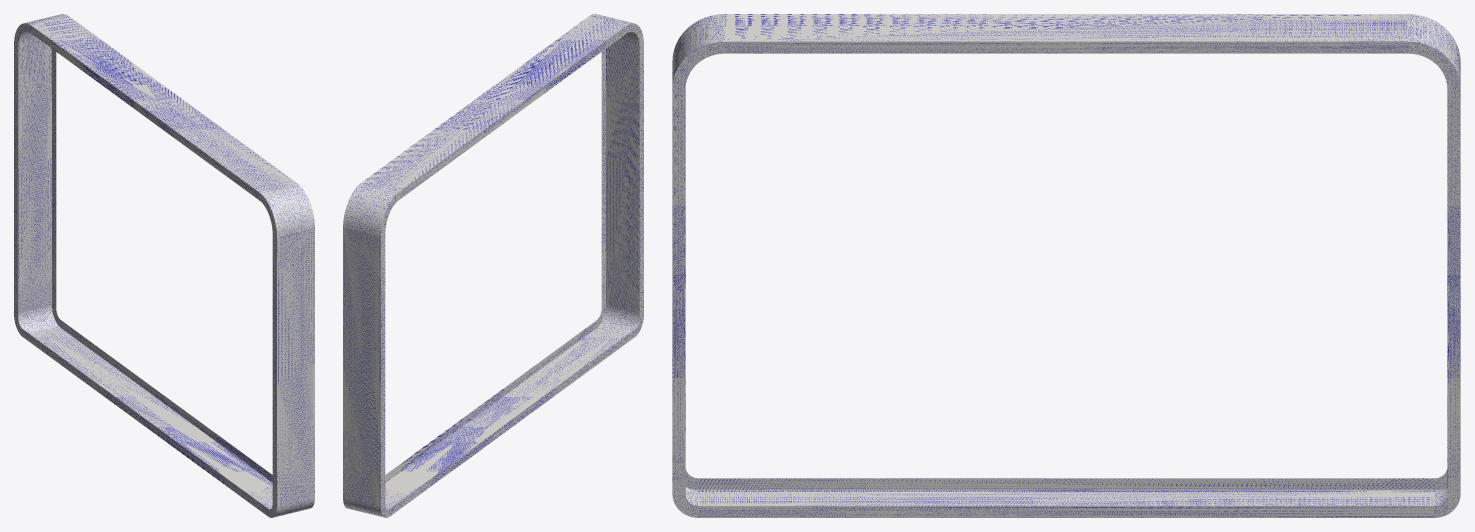
Rendered from original-21.obj.
3 views of the same model, side by side, from view 1: azimuth 30°, elevation 25°; view 2: azimuth 150°, elevation 25°; view 3: azimuth 270°, elevation 25° (orthographic). The views are drawn at different scales.
Parts seen in each view (by area): view 1: #ID111; view 2: #ID111; view 3: #ID111.
Part boxes in pixels (x1,y1,x2,y2): #ID111: (14, 14, 314, 517); #ID111: (343, 14, 643, 517); #ID111: (672, 14, 1460, 517).
Bounding box in the file's own units: 0.1258 × 1.01 × 1.51.
